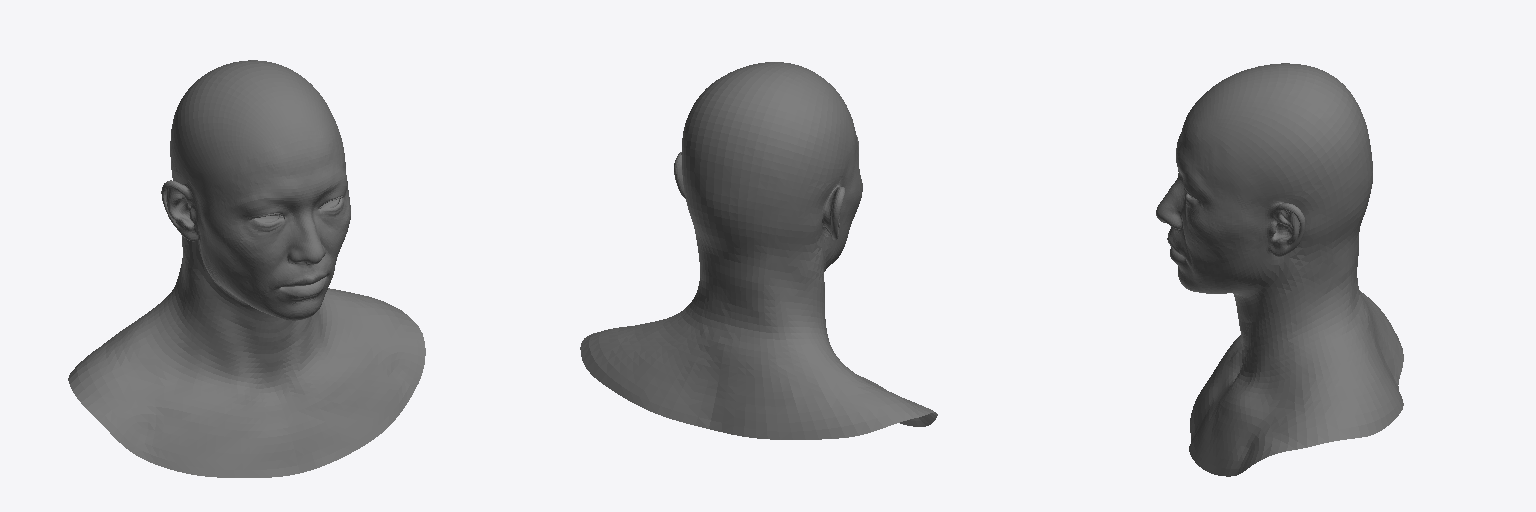
Rendered from base_head.obj.
3 renders of one model, left to right at view 1: azimuth 30°, elevation 25°; view 2: azimuth 150°, elevation 25°; view 3: azimuth 270°, elevation 25°, orthographic.
Visible parts, largest first — view 1: head_lod0_mesh; view 2: head_lod0_mesh; view 3: head_lod0_mesh.
Part boxes in pixels (bbox=[...]): head_lod0_mesh: bbox=[68, 60, 425, 477]; head_lod0_mesh: bbox=[580, 62, 937, 439]; head_lod0_mesh: bbox=[1156, 63, 1403, 476].
Bounding box in the file's own units: 35.82 × 37.97 × 23.04.